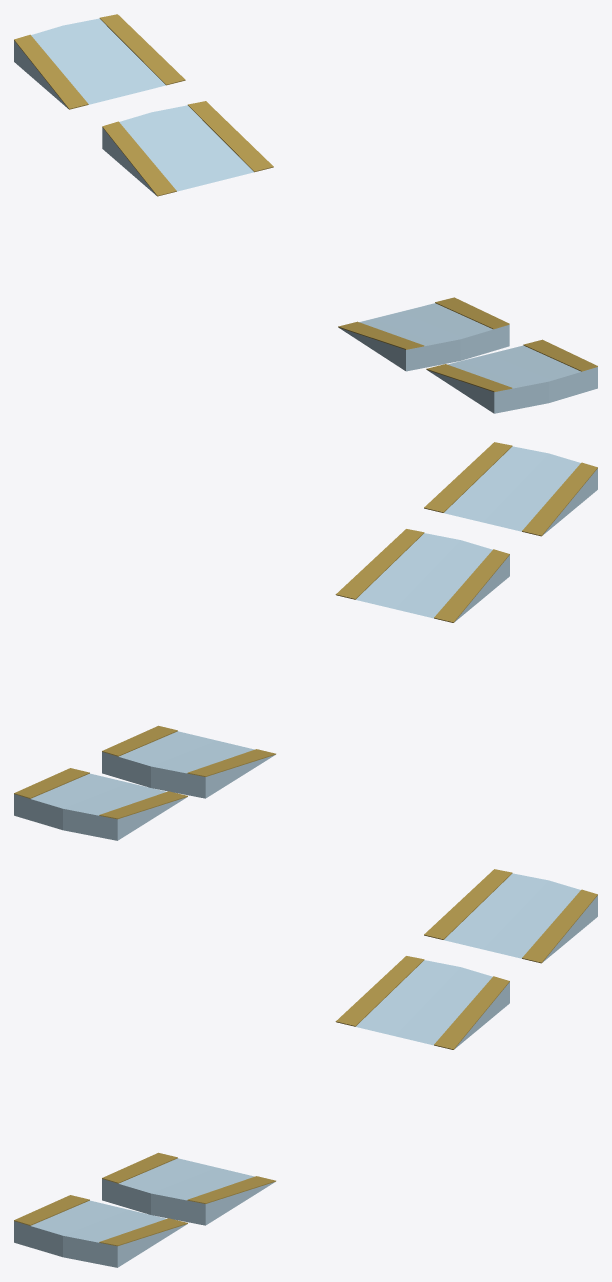
Rendered from Checkpoint Paths.fbx.
3 views of the same model, one above another, from view 1: azimuth 30°, elevation 25°; view 2: azimuth 150°, elevation 25°; view 3: azimuth 330°, elevation 25° (orthographic).
Visible parts, largest first — view 1: Slope, Slope.002, Slope.003, Slope.001; view 2: Slope.001, Slope.003, Slope, Slope.002; view 3: Slope.002, Slope, Slope.003, Slope.001.
Boxes of the visible parts, bbox=[...] form: Slope: bbox=[14, 14, 185, 109]; Slope.002: bbox=[102, 101, 273, 196]; Slope.003: bbox=[426, 339, 597, 413]; Slope.001: bbox=[338, 297, 509, 371]; Slope.001: bbox=[335, 529, 509, 622]; Slope.003: bbox=[424, 442, 597, 536]; Slope: bbox=[14, 768, 187, 840]; Slope.002: bbox=[102, 725, 275, 798]; Slope.002: bbox=[335, 956, 509, 1049]; Slope: bbox=[424, 869, 597, 963]; Slope.003: bbox=[14, 1195, 187, 1267]; Slope.001: bbox=[102, 1152, 275, 1225].
Size of the model in its own units: 154 by 55.26 by 1090.
